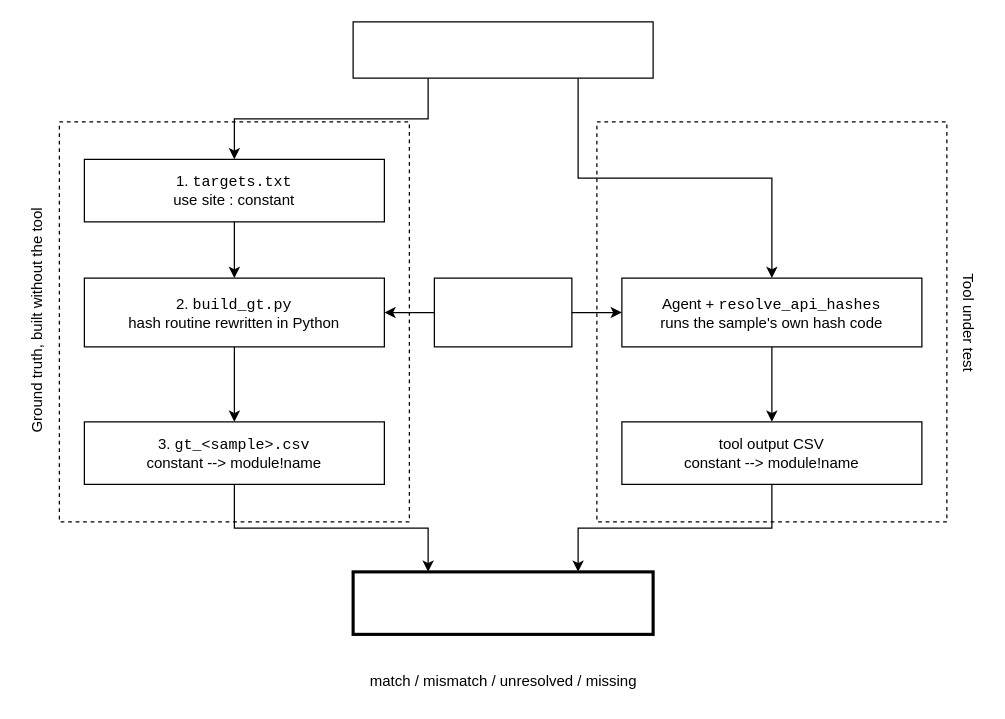
The diagram is 1005 pixels wide and 719 high, and some of its shapes have lost their labels. The shapes that lost their labels are listed below. From the top down, each one's centre as x and y in pixels, then its label:
At (x=502, y=49): "Unpacked sample in Ghidra".
At (x=502, y=312): "DLL corpus export tables".
At (x=502, y=602): "compare.py join on the constant".
